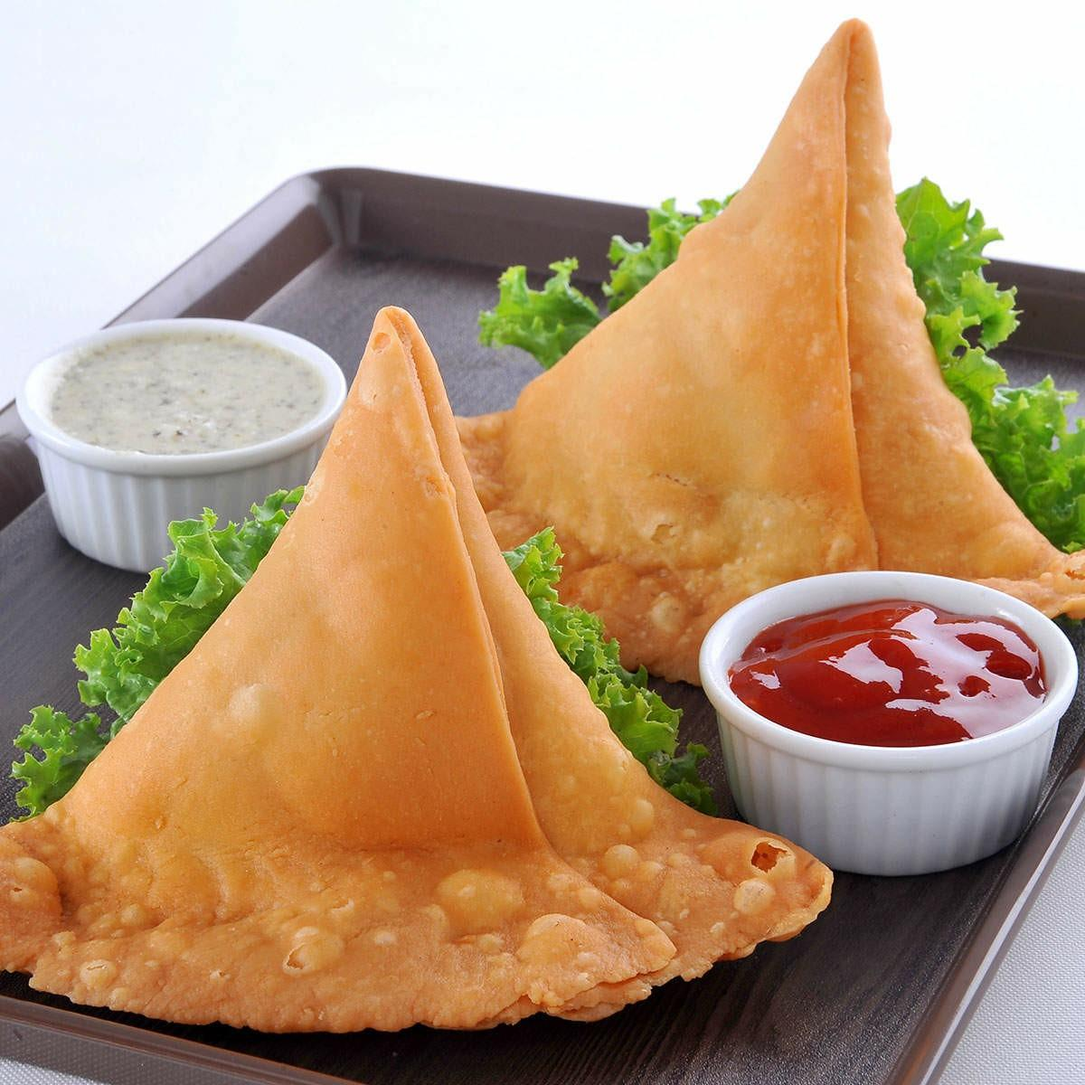Samosa: (0, 297, 842, 1038), (454, 17, 1074, 692)
